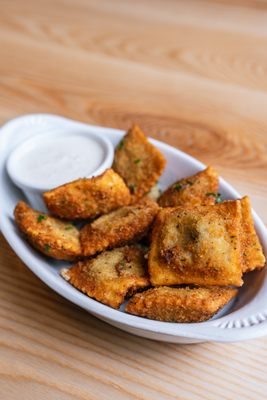curry: (0, 0, 266, 386)
